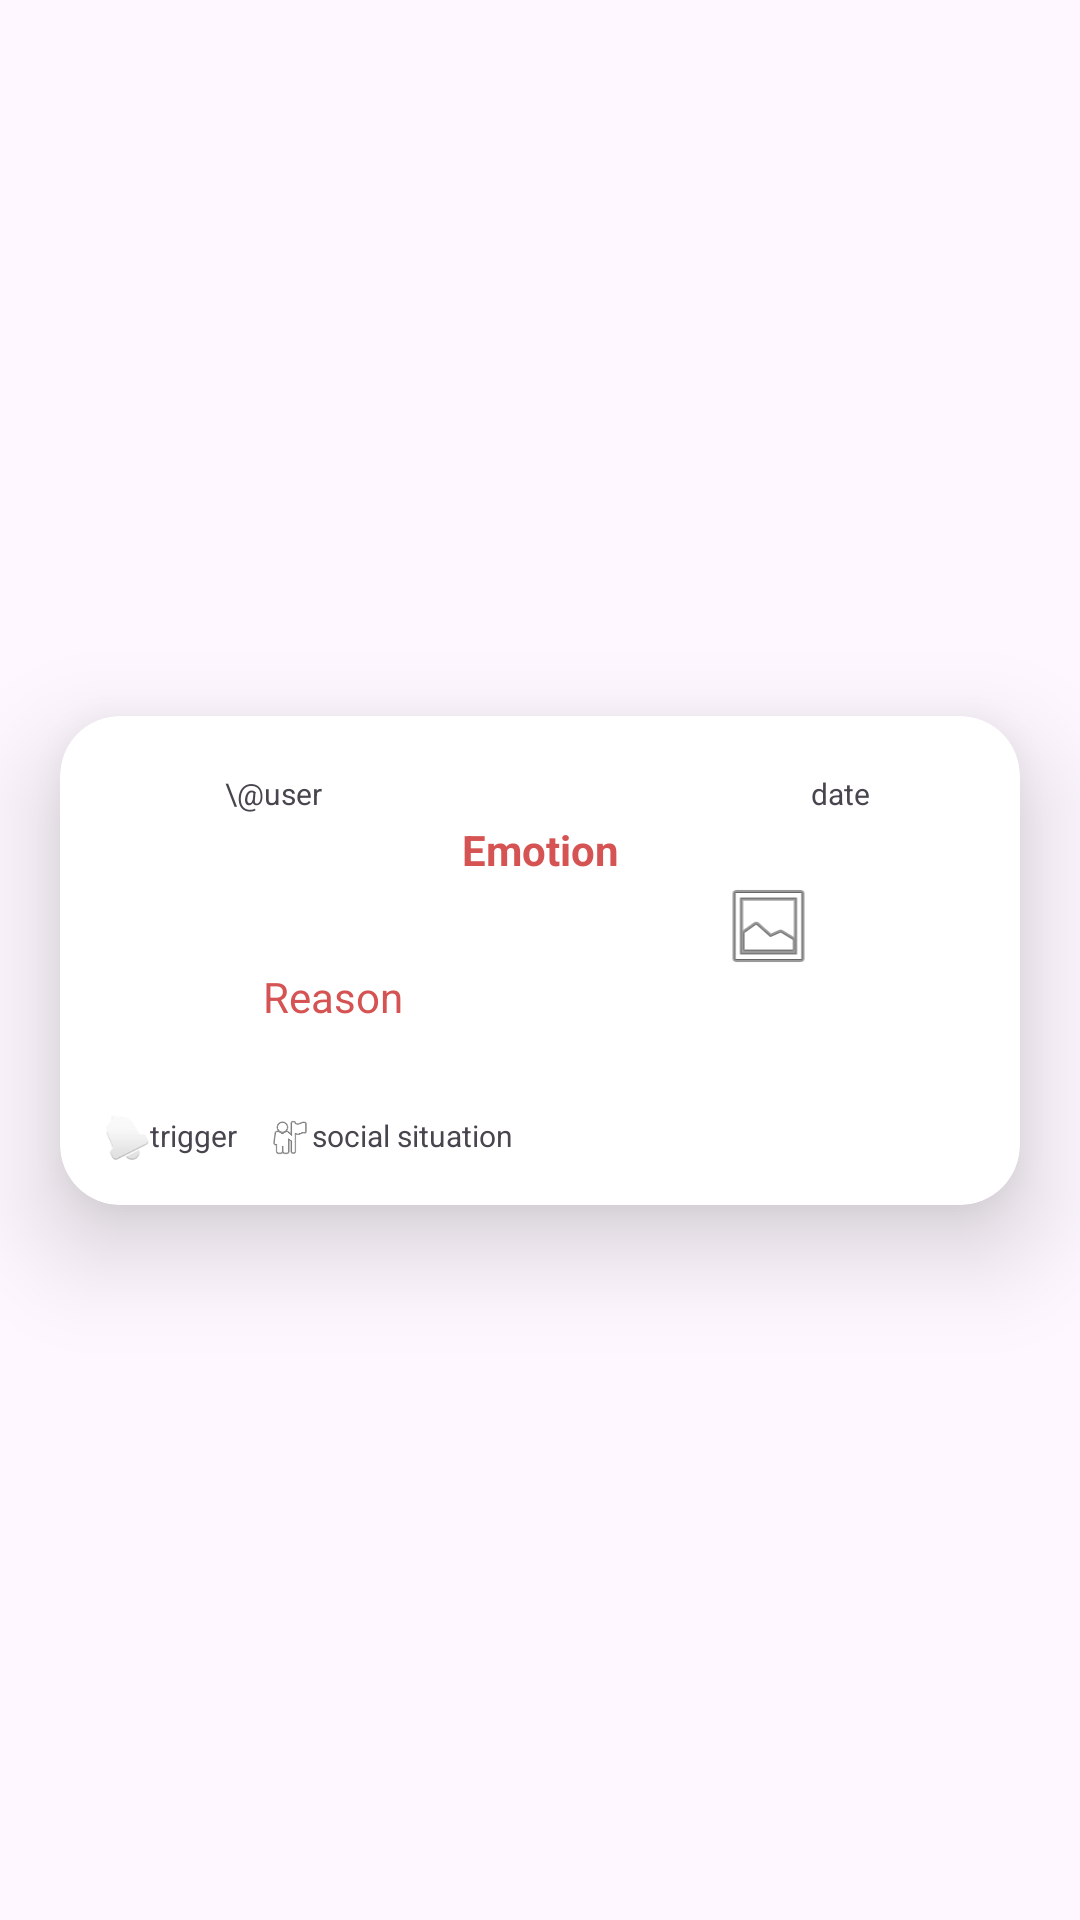

Icon click points for this 1080×1920 phone screenshot, format [x,y]:
gallery: [768,926]
